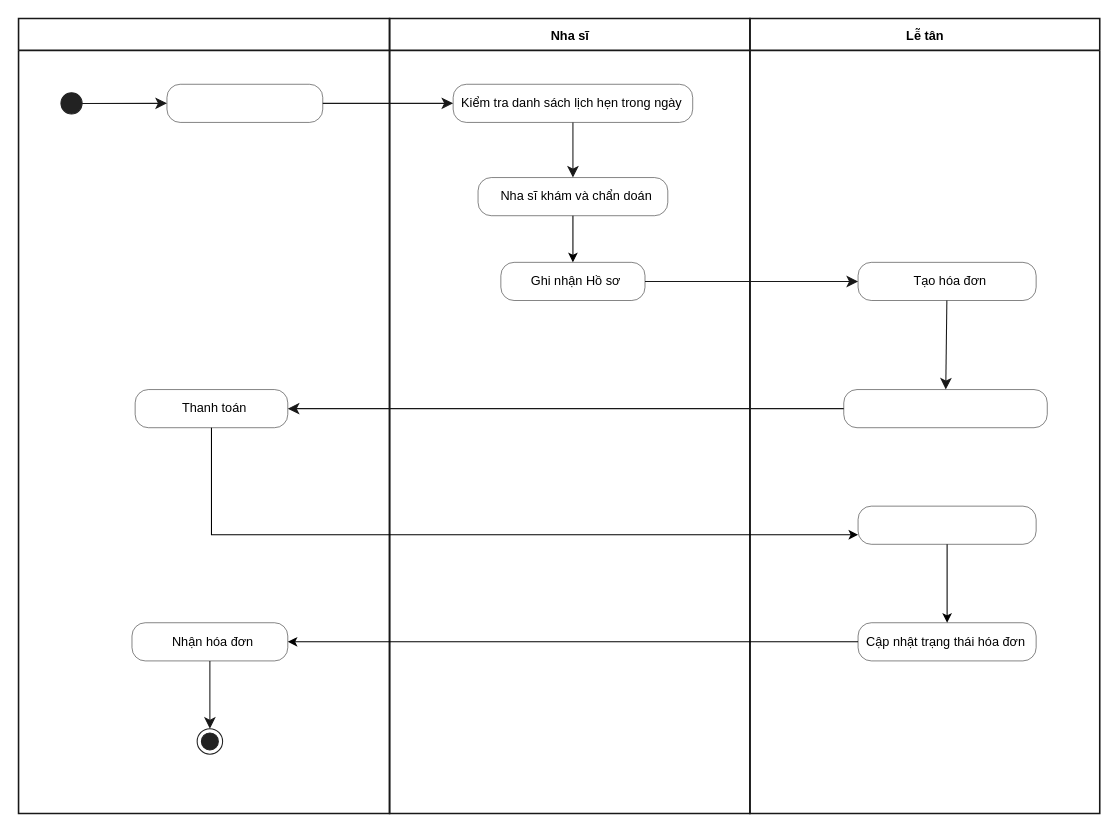
Image size: 1119x833. Some labels were removed from this diagram. Each missing label, with the box of its shape:
Bệnh nhân: (17, 17, 390, 814)
Checkin: (166, 84, 323, 122)
Tính tổng tiền: (843, 389, 1047, 427)
Xác nhận thanh toán thành công: (857, 505, 1036, 544)
